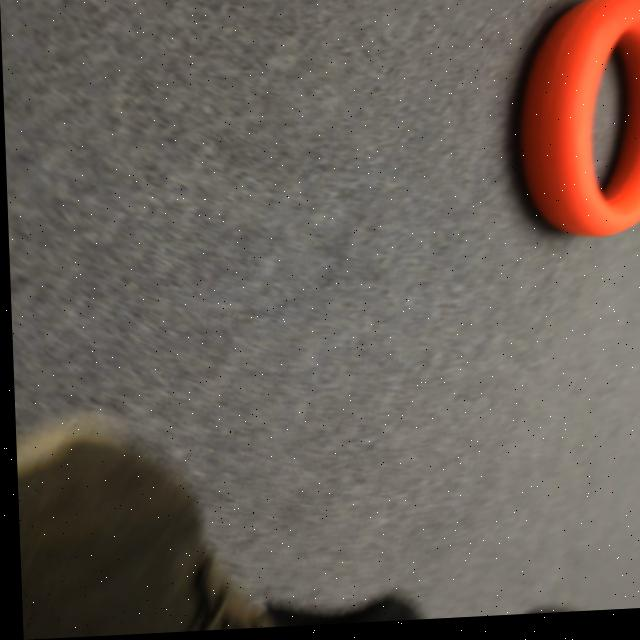note: (514, 0, 640, 245)
